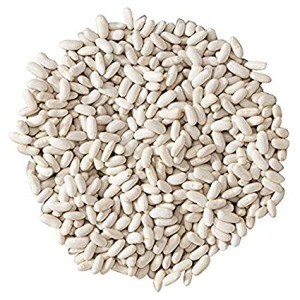beans_brain food: (72, 94, 222, 214)
